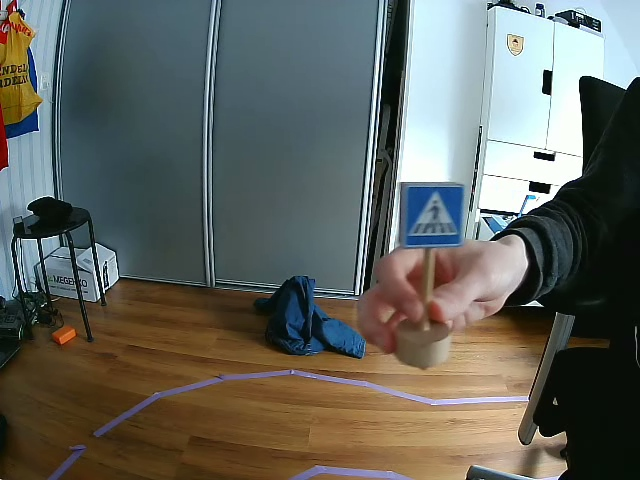zebrapad: (405, 184, 463, 249)
